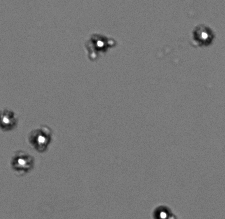Living Cell: (29, 129, 56, 153), (87, 33, 113, 54), (12, 151, 34, 174), (193, 24, 214, 47), (1, 108, 18, 132), (153, 205, 173, 217)
